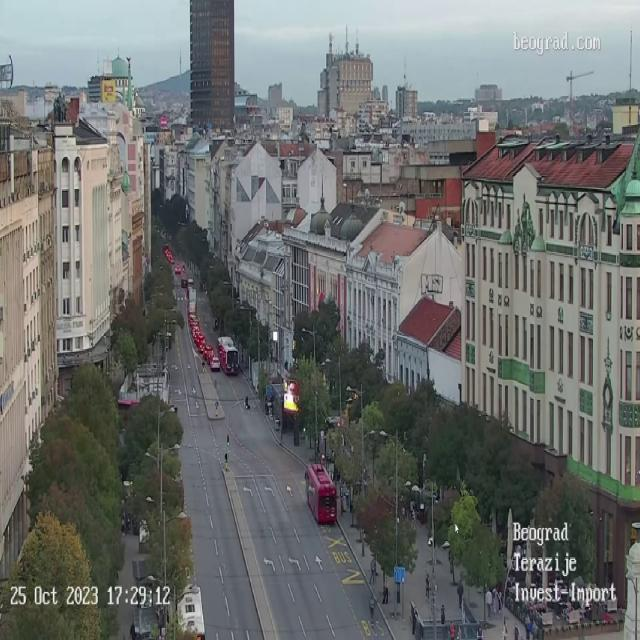bus: (305, 462, 337, 524), (179, 577, 205, 640), (220, 337, 242, 376), (189, 287, 197, 306)
car: (210, 358, 222, 372), (204, 343, 214, 358), (199, 335, 203, 349)
